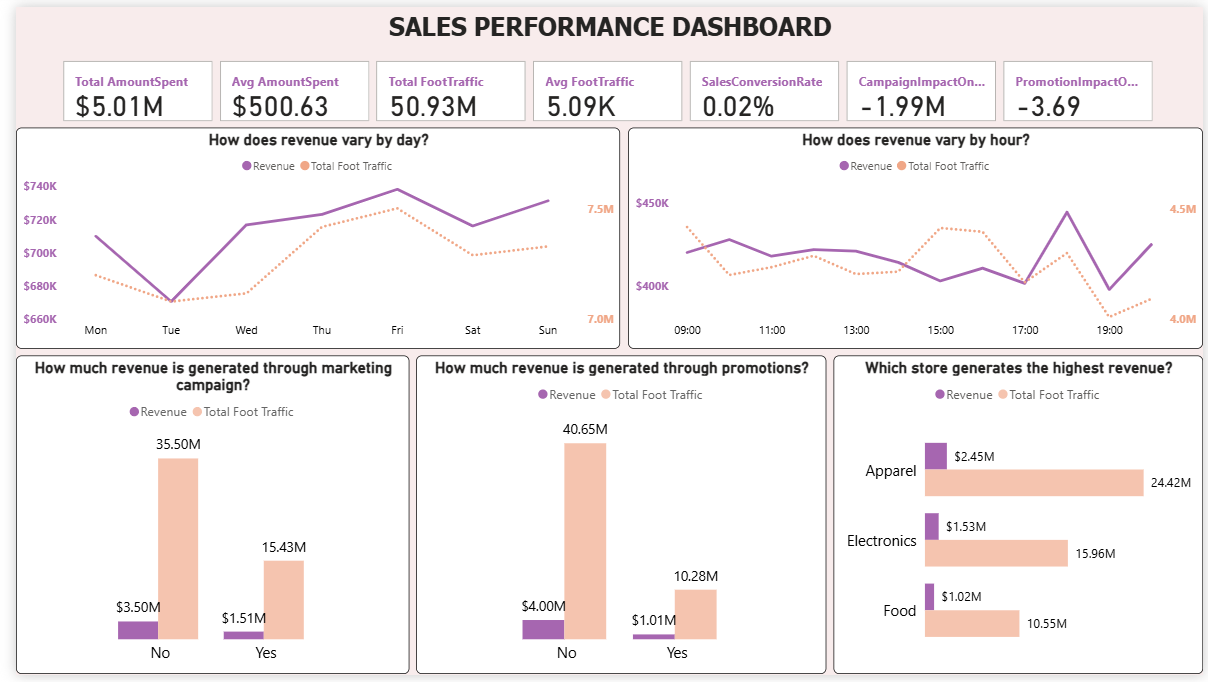

The page's visual inventory and layout, read from the dashboard file:
{"tool":"powerbi","page":{"name":"OVERVIEW","canvas":[1280,720],"ordinal":0},"visuals":[{"type":"lineChart","title":"How does revenue vary by hour?","fields":{"Category":["fashion_forward_mall_dataset.VisitTime"],"Y":["Sum(fashion_forward_mall_dataset.AmountSpent)"],"Y2":["Sum(fashion_forward_mall_dataset.FootTraffic)"]},"box":[660.4,129.4,619.6,238.3],"z":0},{"type":"lineChart","title":"How does revenue vary by day?","fields":{"Y":["Sum(fashion_forward_mall_dataset.AmountSpent)"],"Category":["fashion_forward_mall_dataset.Day Name"],"Y2":["Sum(fashion_forward_mall_dataset.FootTraffic)"]},"box":[0,129.4,651.7,238.3],"z":1000},{"type":"clusteredColumnChart","title":"How much revenue is generated through promotions?","fields":{"Category":["fashion_forward_mall_dataset.Promotion"],"Y":["Sum(fashion_forward_mall_dataset.AmountSpent)","Sum(fashion_forward_mall_dataset.FootTraffic)"]},"box":[430.9,376.4,442.6,343.3],"z":2000},{"type":"clusteredBarChart","title":"Which store generates the highest revenue?","fields":{"Category":["fashion_forward_mall_dataset.StoreType"],"Y":["Sum(fashion_forward_mall_dataset.AmountSpent)","Sum(fashion_forward_mall_dataset.FootTraffic)"]},"box":[881.2,376.4,398.8,343.3],"z":3000},{"type":"clusteredColumnChart","title":"How much revenue is generated through marketing campaign?","fields":{"Category":["fashion_forward_mall_dataset.MarketingCampaign"],"Y":["Sum(fashion_forward_mall_dataset.AmountSpent)","Sum(fashion_forward_mall_dataset.FootTraffic)"]},"box":[0,376.4,424.1,343.3],"z":4000},{"type":"cardVisual","fields":{"Data":["Sum(fashion_forward_mall_dataset.AmountSpent)","Avg(fashion_forward_mall_dataset.AmountSpent)","Sum(fashion_forward_mall_dataset.FootTraffic)","Avg(fashion_forward_mall_dataset.FootTraffic)","All Measures.SalesConversionRate","All Measures.CampaignImpactOnSales","All Measures.PromotionImpactOnFootTraffic"]},"box":[45.7,53.5,1187.6,75.9],"z":5000},{"type":"textbox","box":[397.2,0,508.1,46.1],"z":10000}]}

Visuals, with their boxes in screenshot pixels (x1, y1, x2, y2), scaled from the page's 1280x720 canvas onto the 1208x682 screenshot:
"How does revenue vary by hour?" lineChart: bbox(623, 123, 1207, 348)
"How does revenue vary by day?" lineChart: bbox(0, 123, 615, 348)
"How much revenue is generated through promotions?" clusteredColumnChart: bbox(407, 357, 824, 681)
"Which store generates the highest revenue?" clusteredBarChart: bbox(832, 357, 1207, 681)
"How much revenue is generated through marketing campaign?" clusteredColumnChart: bbox(0, 357, 400, 681)
cardVisual - Sum(fashion_forward_mall_dataset.AmountSpent) x Avg(fashion_forward_mall_dataset.AmountSpent): bbox(43, 51, 1164, 123)
textbox: bbox(375, 0, 854, 44)
